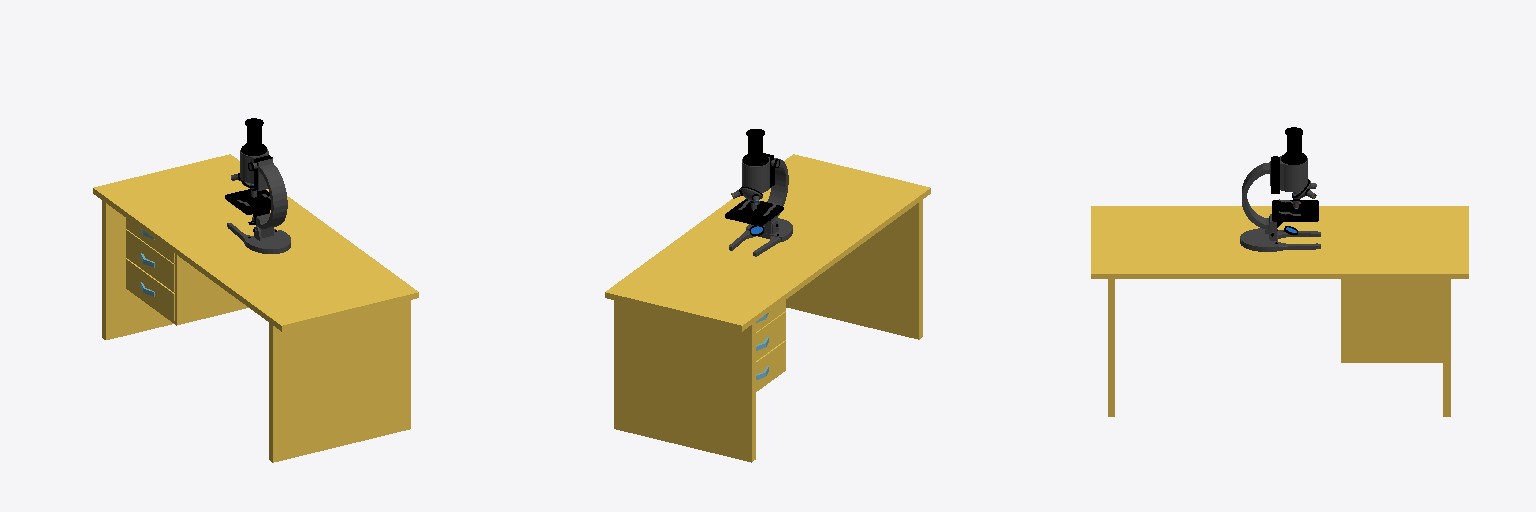
The model's file is microscope.obj.
3 renders of one model, left to right at view 1: azimuth 30°, elevation 25°; view 2: azimuth 150°, elevation 25°; view 3: azimuth 270°, elevation 25°, orthographic.
Parts seen in each view (by area): view 1: Cube.218_Cube.221, Circle.003; view 2: Cube.218_Cube.221, Circle.003; view 3: Cube.218_Cube.221, Circle.003.
Part boxes in pixels (x1,y1,x2,y2): Cube.218_Cube.221: (93, 154, 418, 462); Circle.003: (225, 118, 290, 253); Cube.218_Cube.221: (605, 154, 930, 462); Circle.003: (725, 129, 792, 256); Cube.218_Cube.221: (1091, 206, 1468, 416); Circle.003: (1240, 127, 1320, 251).
Bounding box in the file's own units: 2 × 3.53 × 4.75.